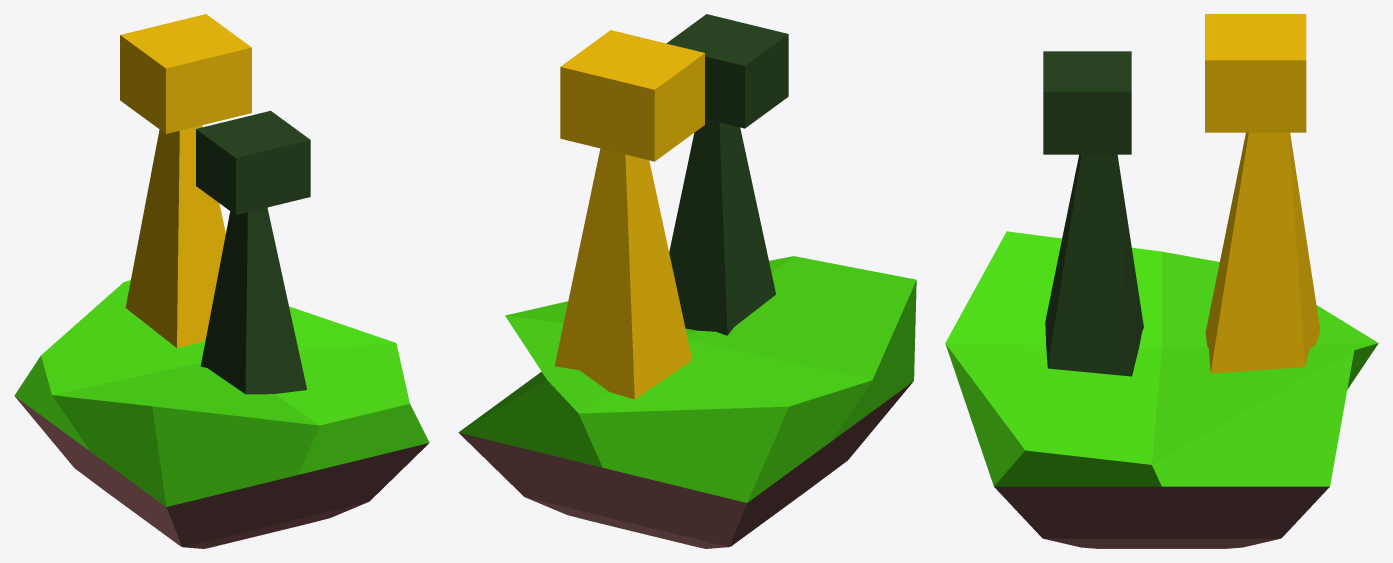
Rendered from monkey.glb.
The picture shows the model from 3 angles, left to right: view 1: azimuth 30°, elevation 25°; view 2: azimuth 150°, elevation 25°; view 3: azimuth 270°, elevation 25°; orthographic projection. The views are drawn at different scales.
Parts seen in each view (by area): view 1: 立方体.009, 立方体.004, 立方体.008; view 2: 立方体.009, 立方体.004, 立方体.008; view 3: 立方体.009, 立方体.004, 立方体.008.
Boxes of the visible parts, x1,y1,x2,y2 form: 立方体.009: (14,280,429,548); 立方体.004: (120,14,251,347); 立方体.008: (196,110,310,394); 立方体.009: (458,256,916,548); 立方体.004: (554,30,704,399); 立方体.008: (666,14,788,335); 立方体.009: (945,231,1378,548); 立方体.004: (1205,14,1320,373); 立方体.008: (1043,51,1143,376).
Bounding box in the file's own units: 1.82 × 2.26 × 1.82.
